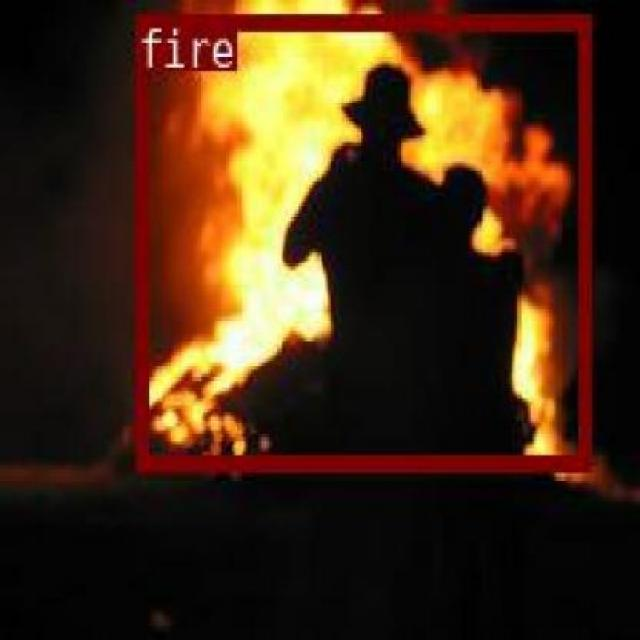Fire: (136, 10, 590, 468)
